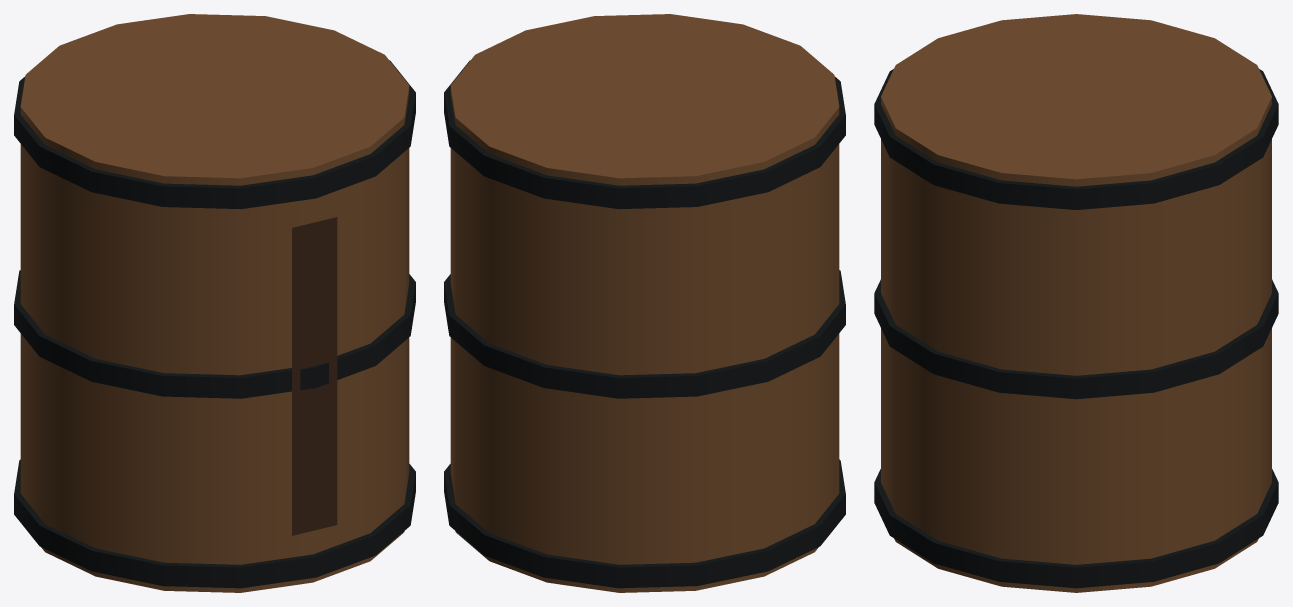
Rendered from wooden-barrel.glb.
3 views of the same model, side by side, from view 1: azimuth 30°, elevation 25°; view 2: azimuth 150°, elevation 25°; view 3: azimuth 270°, elevation 25° (orthographic).
Visible parts, largest first — view 1: barrelBody, woodSlatMark, topHoop, bottomHoop, middleHoop; view 2: barrelBody, topHoop, bottomHoop, middleHoop; view 3: barrelBody, topHoop, middleHoop, bottomHoop.
Boxes of the visible parts, <box> form: barrelBody: <box>20,14,409,592</box>; woodSlatMark: <box>292,217,337,535</box>; topHoop: <box>14,60,415,209</box>; bottomHoop: <box>14,459,415,588</box>; middleHoop: <box>14,270,415,398</box>; barrelBody: <box>450,14,839,592</box>; topHoop: <box>444,60,845,209</box>; bottomHoop: <box>444,459,845,588</box>; middleHoop: <box>444,270,845,398</box>; barrelBody: <box>881,14,1271,592</box>; topHoop: <box>874,69,1278,209</box>; middleHoop: <box>874,279,1278,399</box>; bottomHoop: <box>874,469,1278,588</box>.
Bounding box in the file's own units: 0.62 × 0.7 × 0.62.
